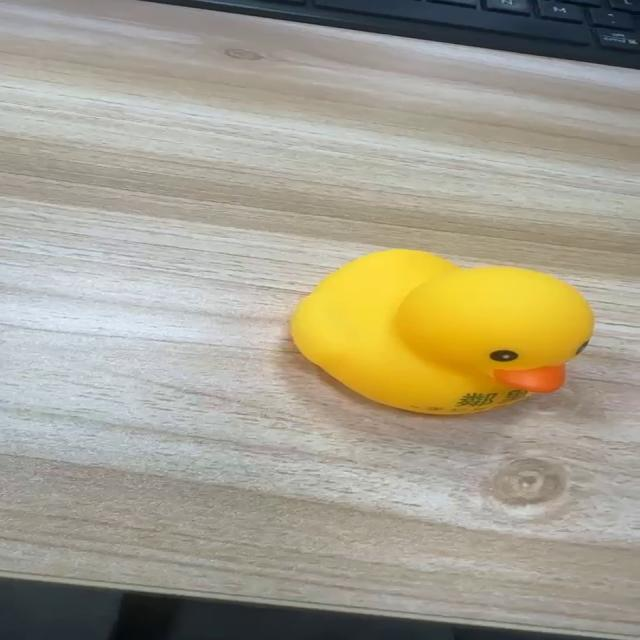yellow_duck: (287, 247, 595, 416)
